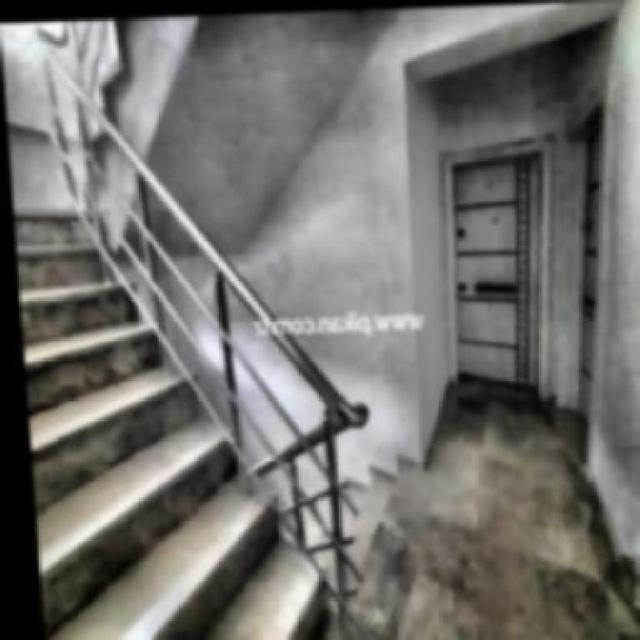stair: (9, 161, 342, 638)
